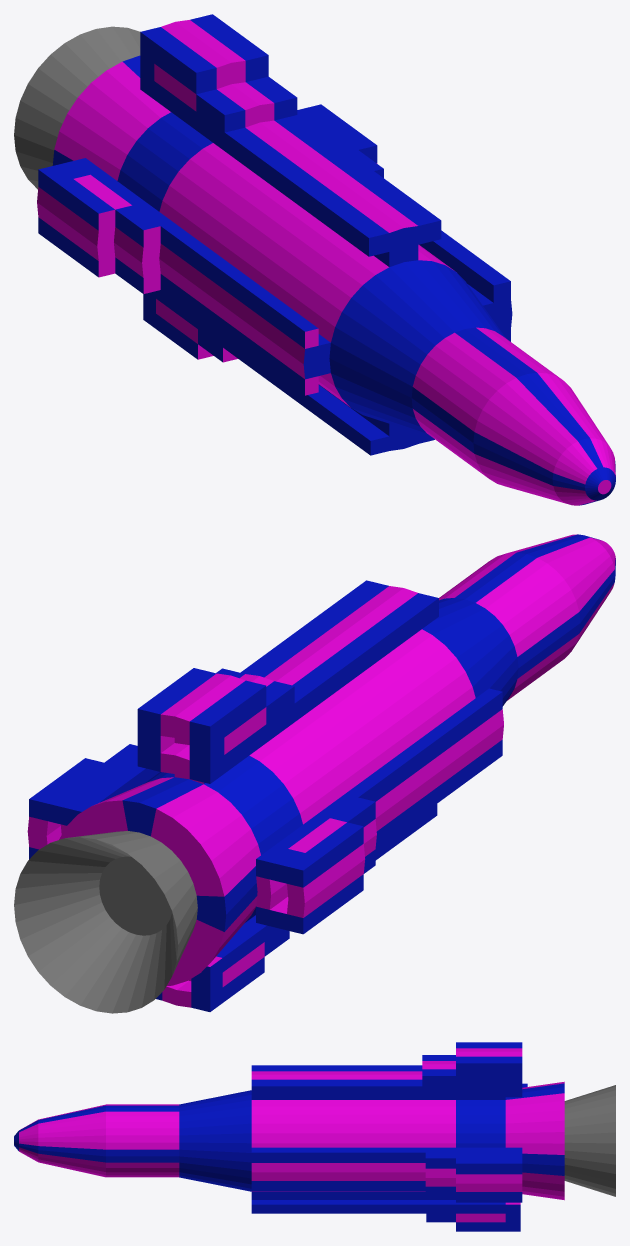
File: Rocket3.fbx
3 views of the same model, one above another, from view 1: azimuth 30°, elevation 25°; view 2: azimuth 150°, elevation 25°; view 3: azimuth 270°, elevation 25° (orthographic). The views are drawn at different scales.
Visible parts, largest first — view 1: Cylinder.002; view 2: Cylinder.002; view 3: Cylinder.002.
Part boxes in pixels (x1,y1,x2,y2): Cylinder.002: (14, 14, 615, 505); Cylinder.002: (14, 534, 615, 1013); Cylinder.002: (14, 1042, 615, 1231).
Size of the model in its own units: 0.6403 by 0.6312 by 2.
